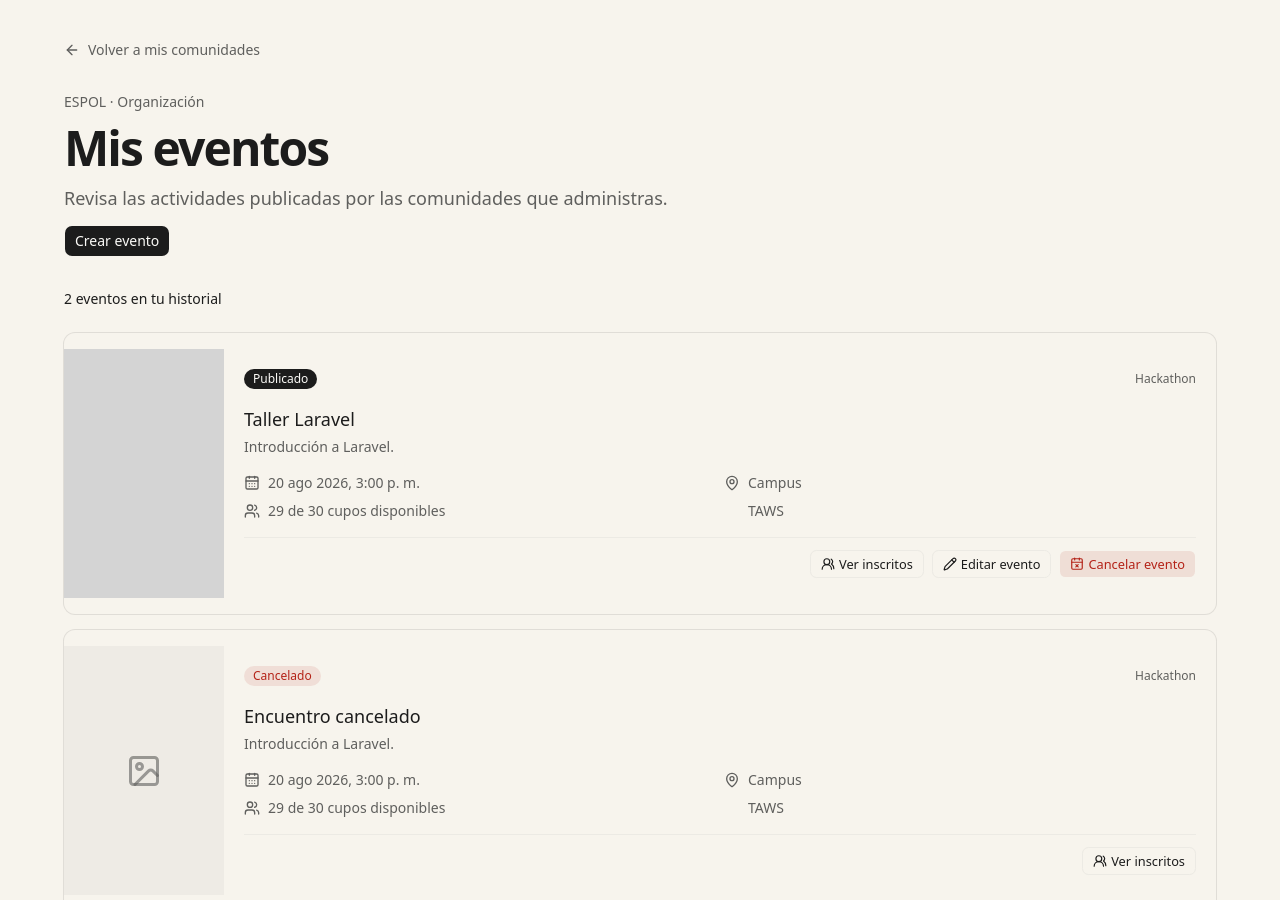
Test: organizer events page › shows the network error and keeps cancellation available to retry
The image size is (1280, 900).
Expected: the link "Taller Laravel" is shown, 244,407 -> 355,431
Click the button with aria-label "Cancelar evento Taller Laravel" at coordinates (1128, 564), box 1059,550 -> 1196,578
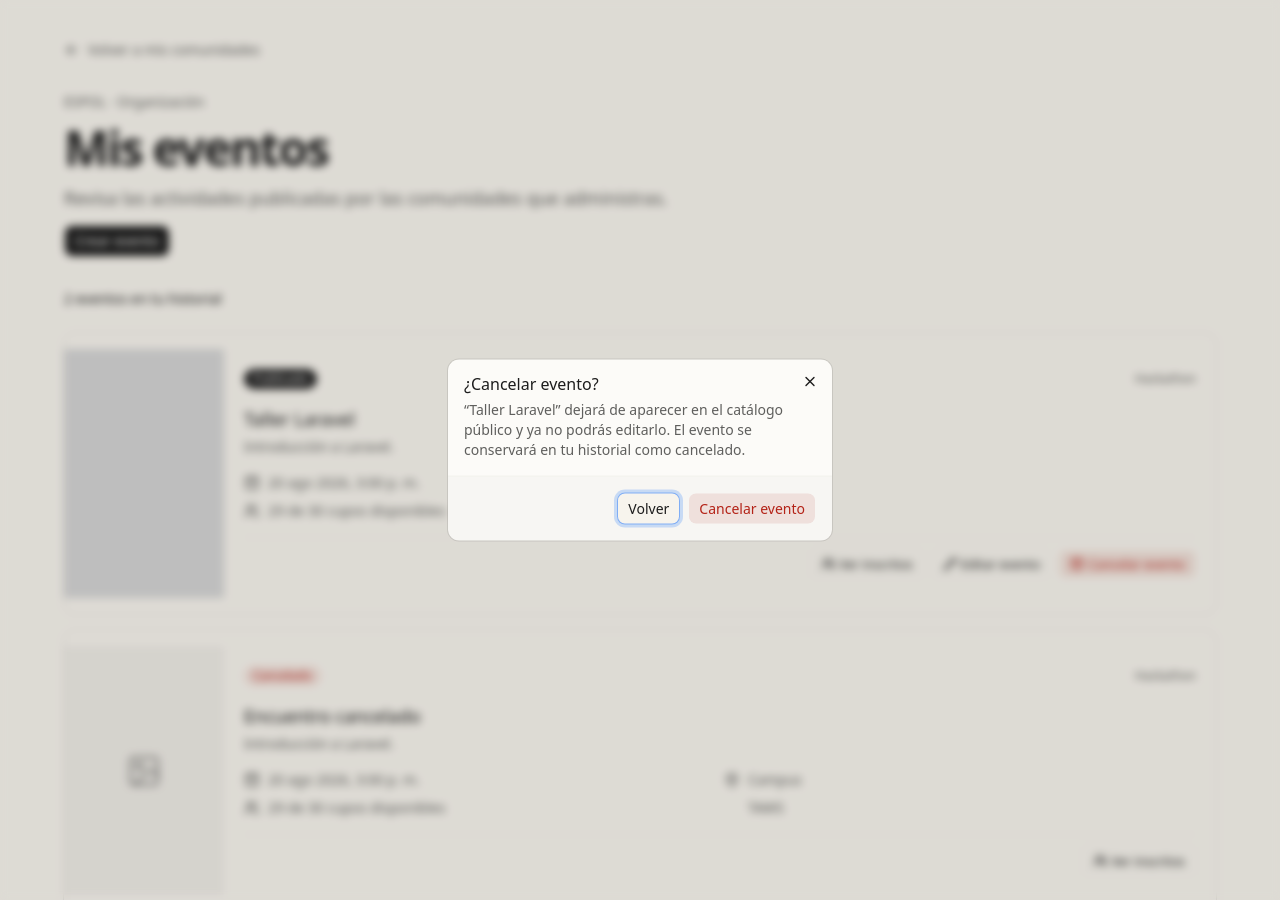
Click the button "Cancelar evento" at coordinates (752, 508), box 688,492 -> 816,524
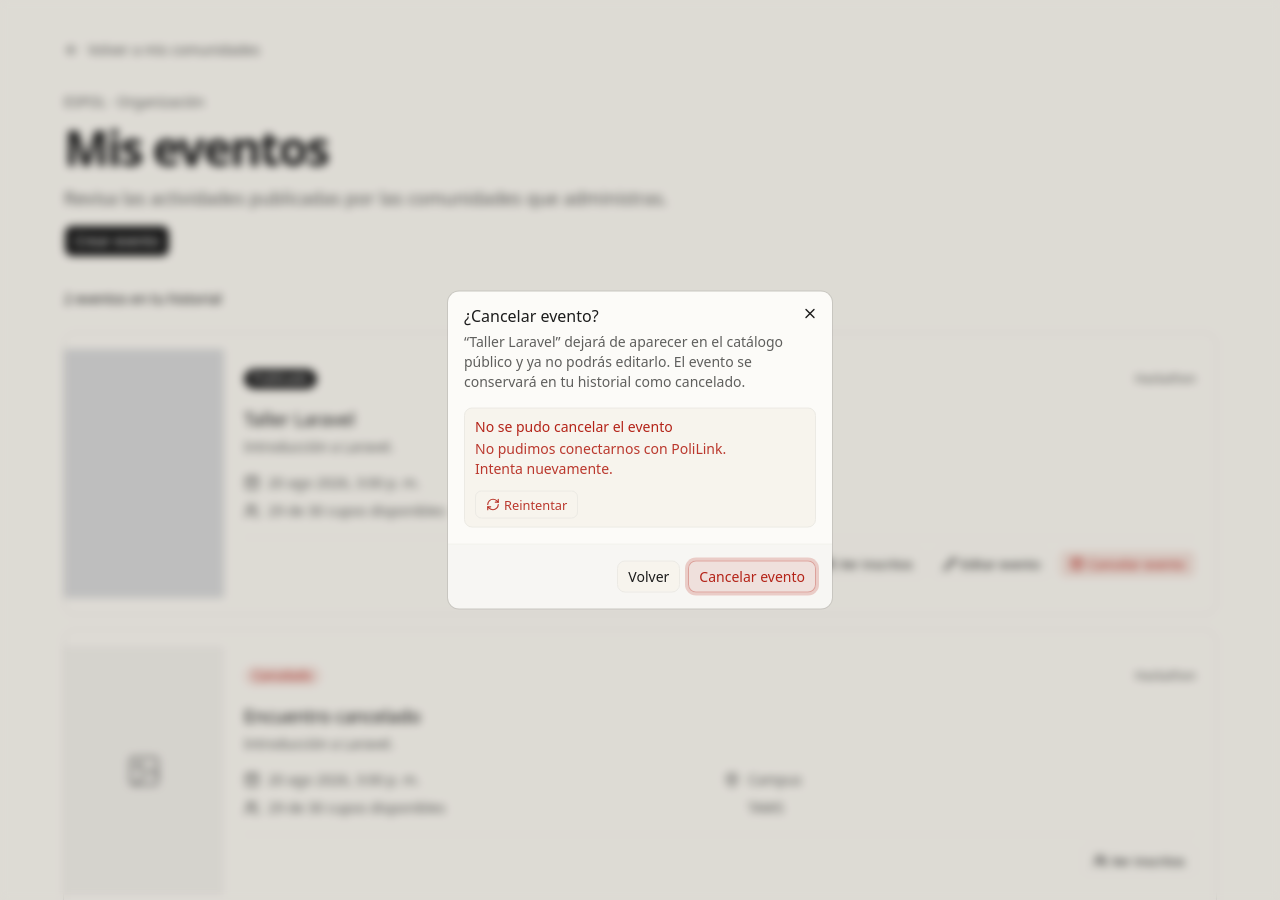
Now the text "No pudimos conectarnos con PoliLink. Intenta nuevamente." is shown, box 475,438 -> 726,478
Now the button "Reintentar" is shown, box 475,490 -> 578,518
